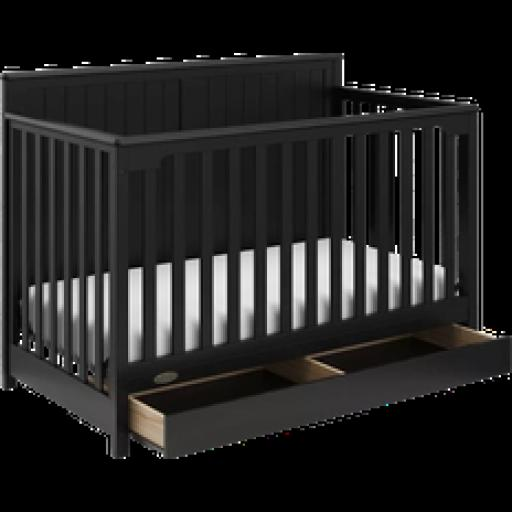crib: (0, 56, 509, 456)
